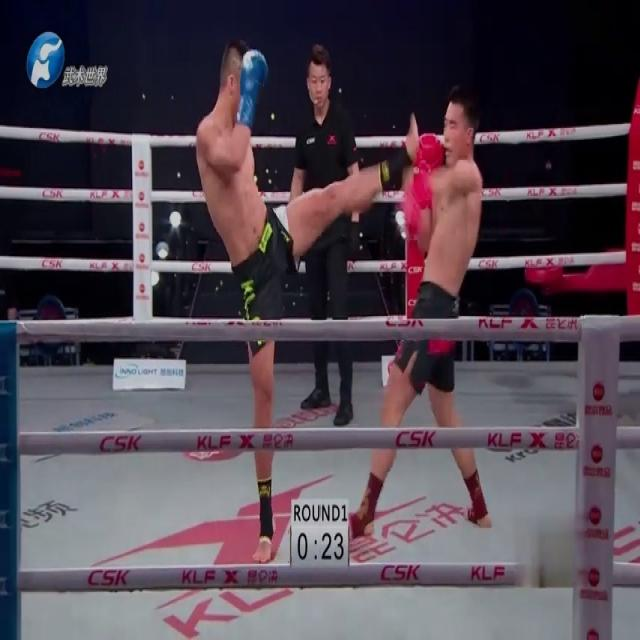fight: (191, 45, 495, 576)
non-fight: (286, 38, 363, 426)
